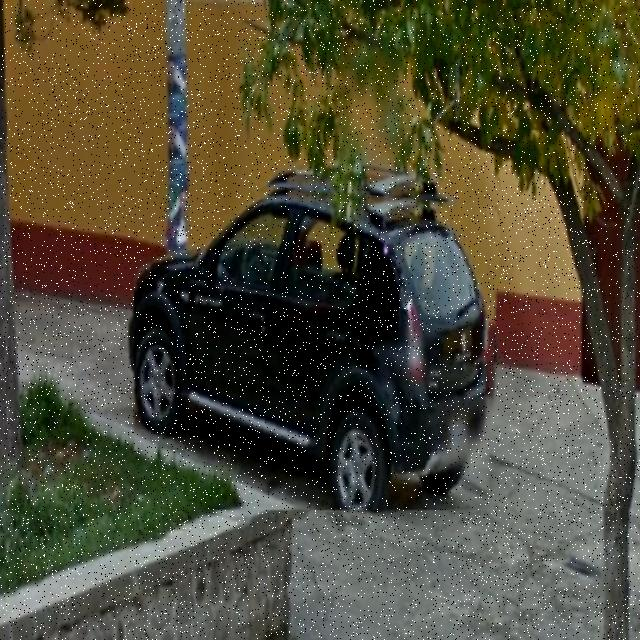car: (135, 175, 502, 511)
